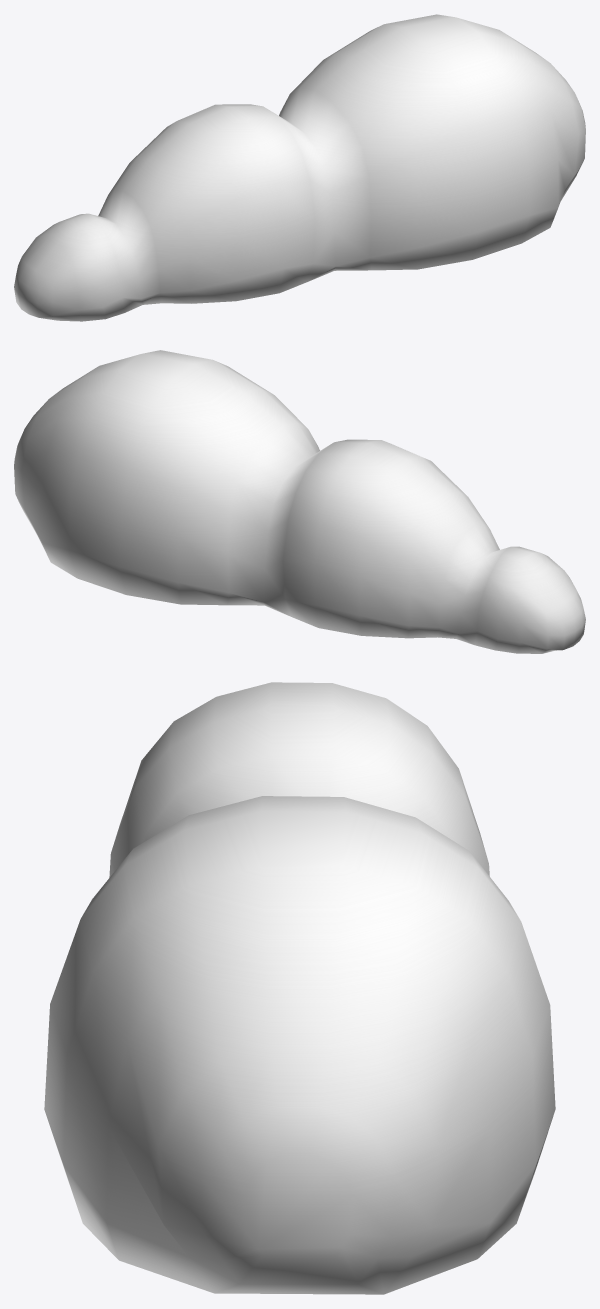
File: Cloud01.fbx
3 renders of one model, top to bottom at view 1: azimuth 30°, elevation 25°; view 2: azimuth 150°, elevation 25°; view 3: azimuth 270°, elevation 25°, orthographic. The views are drawn at different scales.
Visible parts, largest first — view 1: Cloud01; view 2: Cloud01; view 3: Cloud01.
Part boxes in pixels (x1,y1,x2,y2): Cloud01: [14, 14, 585, 321]; Cloud01: [14, 350, 585, 653]; Cloud01: [44, 682, 555, 1294].
Bounding box in the file's own units: 0.4041 × 0.1269 × 0.1629.
